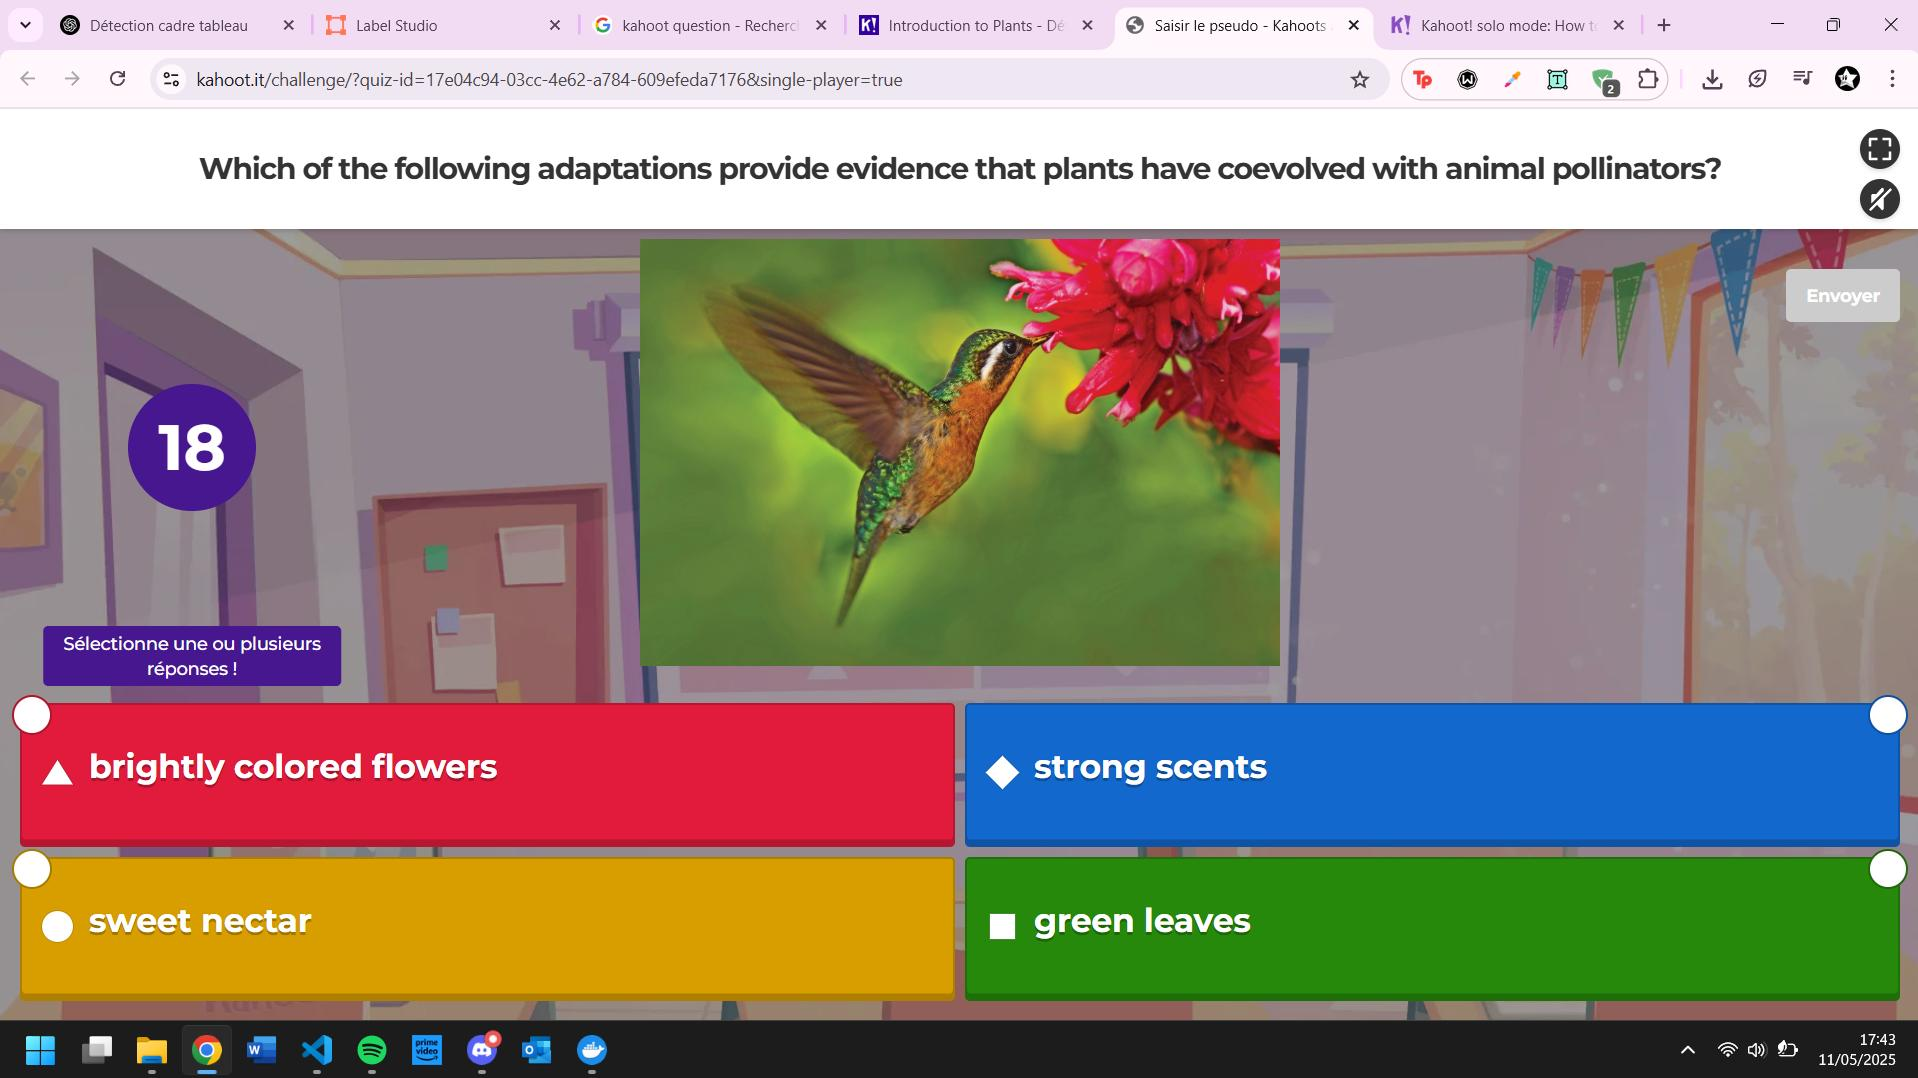answer_blue: (967, 704, 1893, 842)
answer_green: (967, 859, 1897, 991)
answer_red: (25, 706, 951, 838)
answer_yellow: (28, 859, 951, 991)
question_box: (3, 111, 1838, 225)
